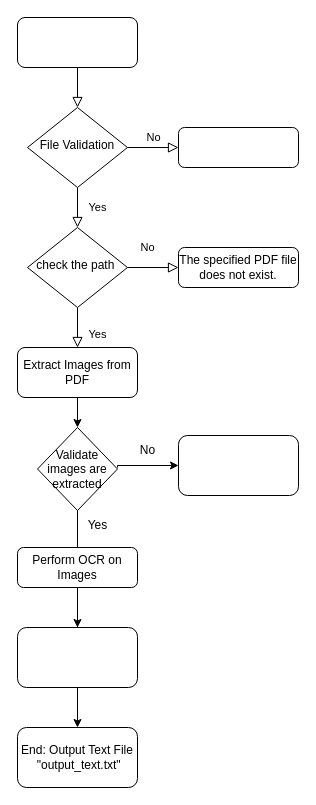
Some shapes in this 316 by 805 pixel diagram are drawn without their labels. The shapes that lost their labels are listed below. From the top down, each one's box as (x1, y1, x2, y2) in pixels, then its label:
(16, 16, 138, 68): Start: Input PDF File "handwritten.pdf"
(178, 126, 298, 168): Error: "The input file must be a PDF."
(178, 434, 298, 496): No images found in the PDF.
(16, 626, 138, 688): Save Extracted Text to File
